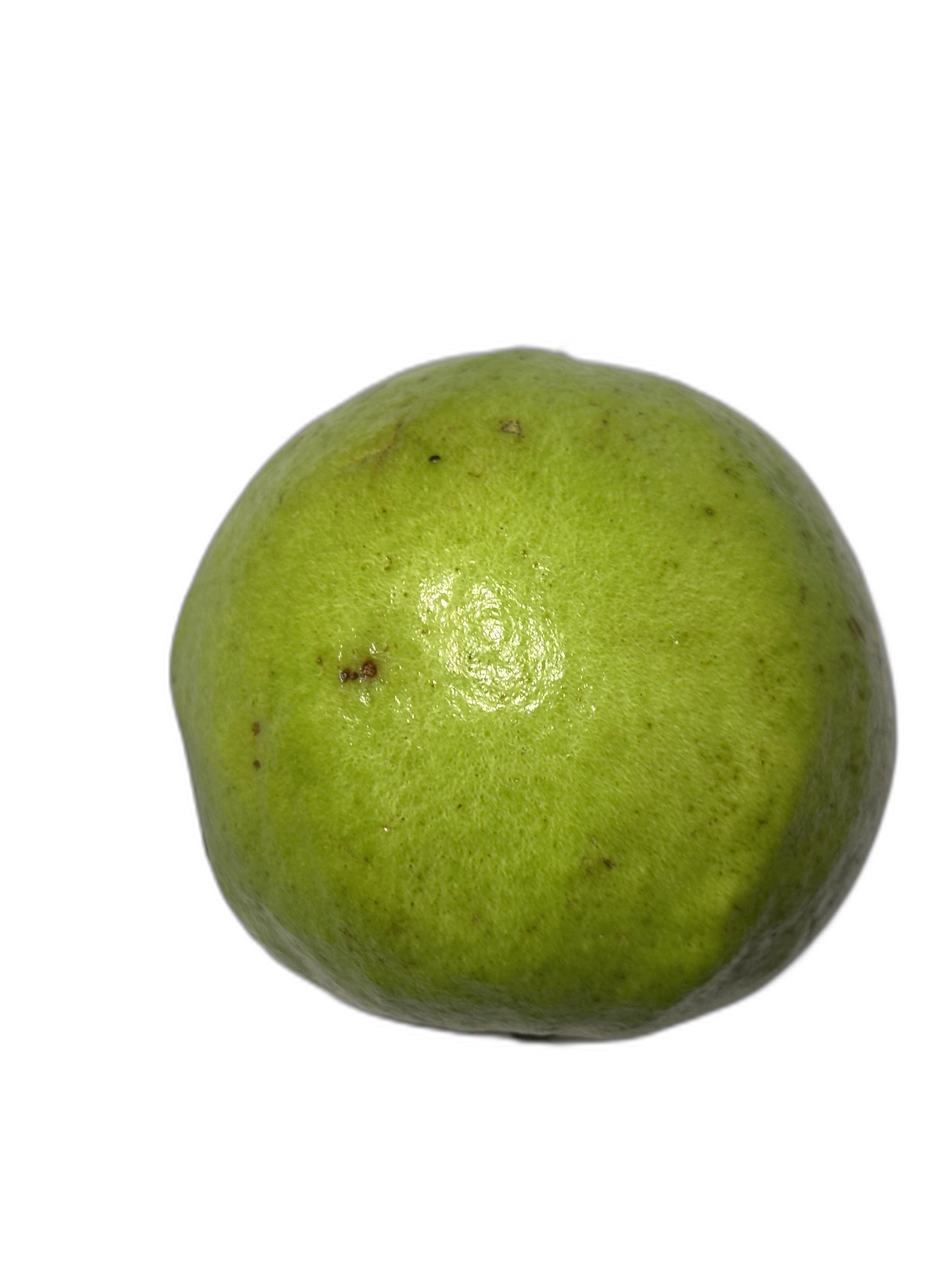guava: (164, 251, 910, 1137)
